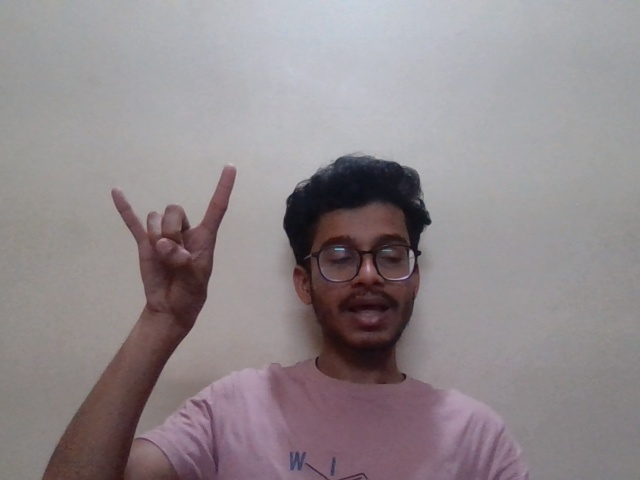i-love-you: (105, 156, 267, 319)
